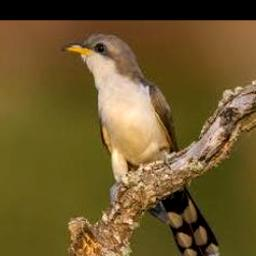Cuckoo: (61, 34, 222, 255)
